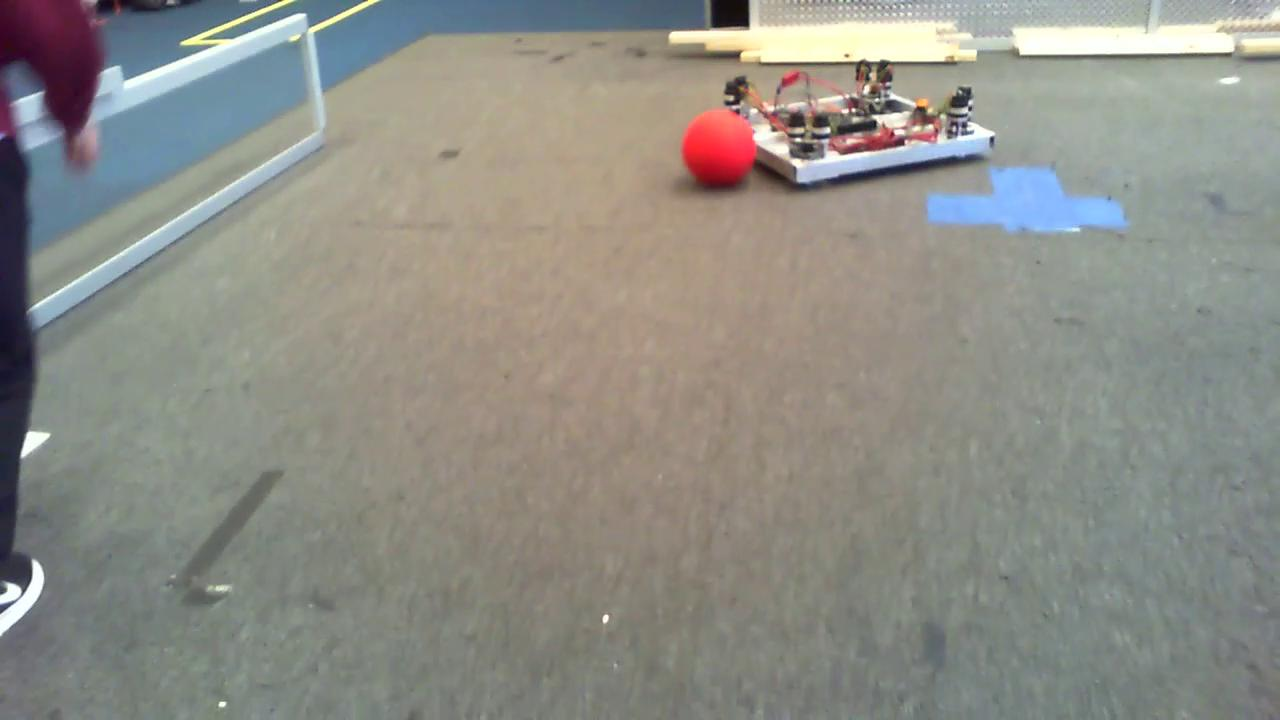Red_Ball: (680, 102, 759, 198)
